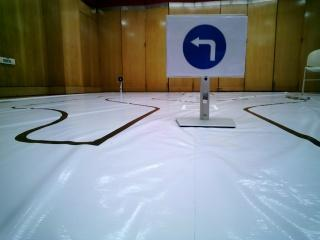left: (165, 15, 244, 75)
